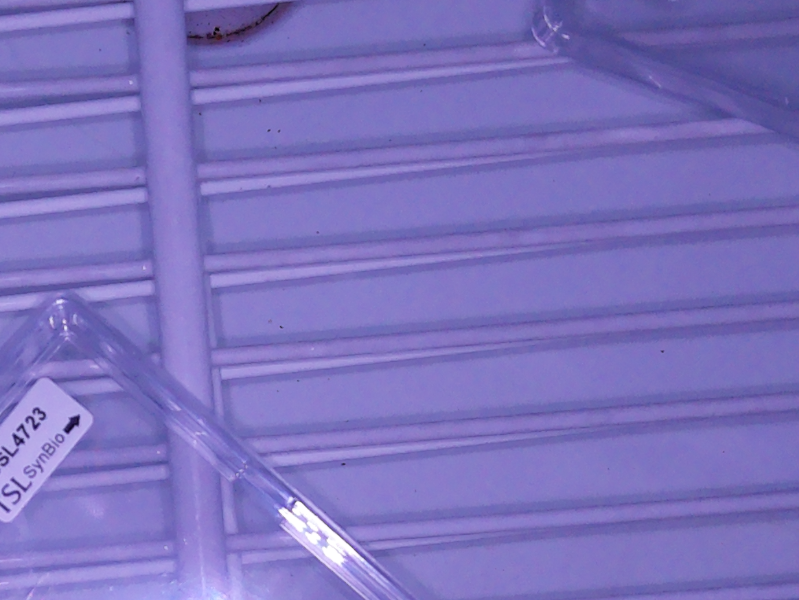plate: (1, 290, 415, 600), (530, 1, 799, 134)
